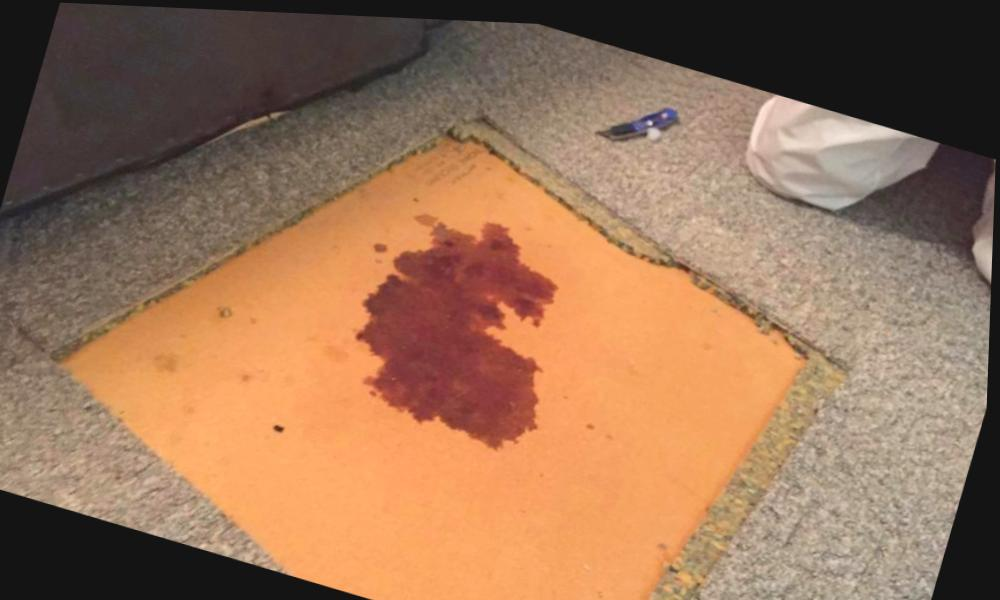Fire: (357, 217, 560, 446)
